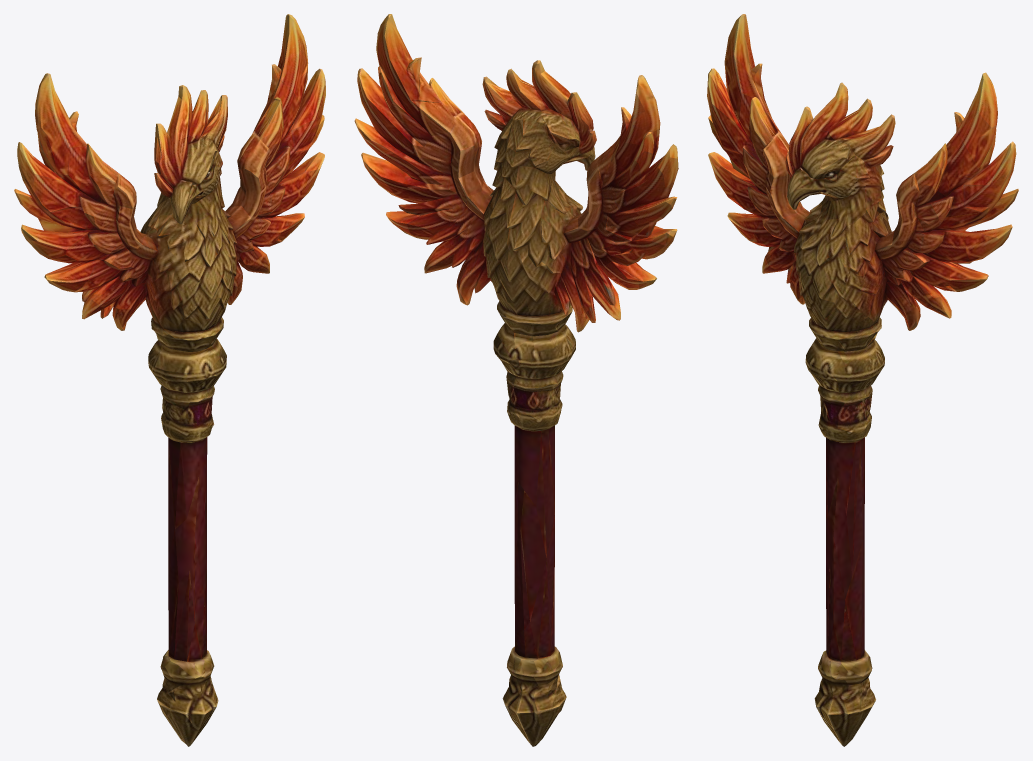
File: phoenix_staff.glb
The picture shows the model from 3 angles, left to right: view 1: azimuth 30°, elevation 25°; view 2: azimuth 150°, elevation 25°; view 3: azimuth 330°, elevation 25°; orthographic projection. The views are drawn at different scales.
Bounding box in the file's own units: 1.01 × 2.15 × 0.2866.
1 material, 1 textured.
